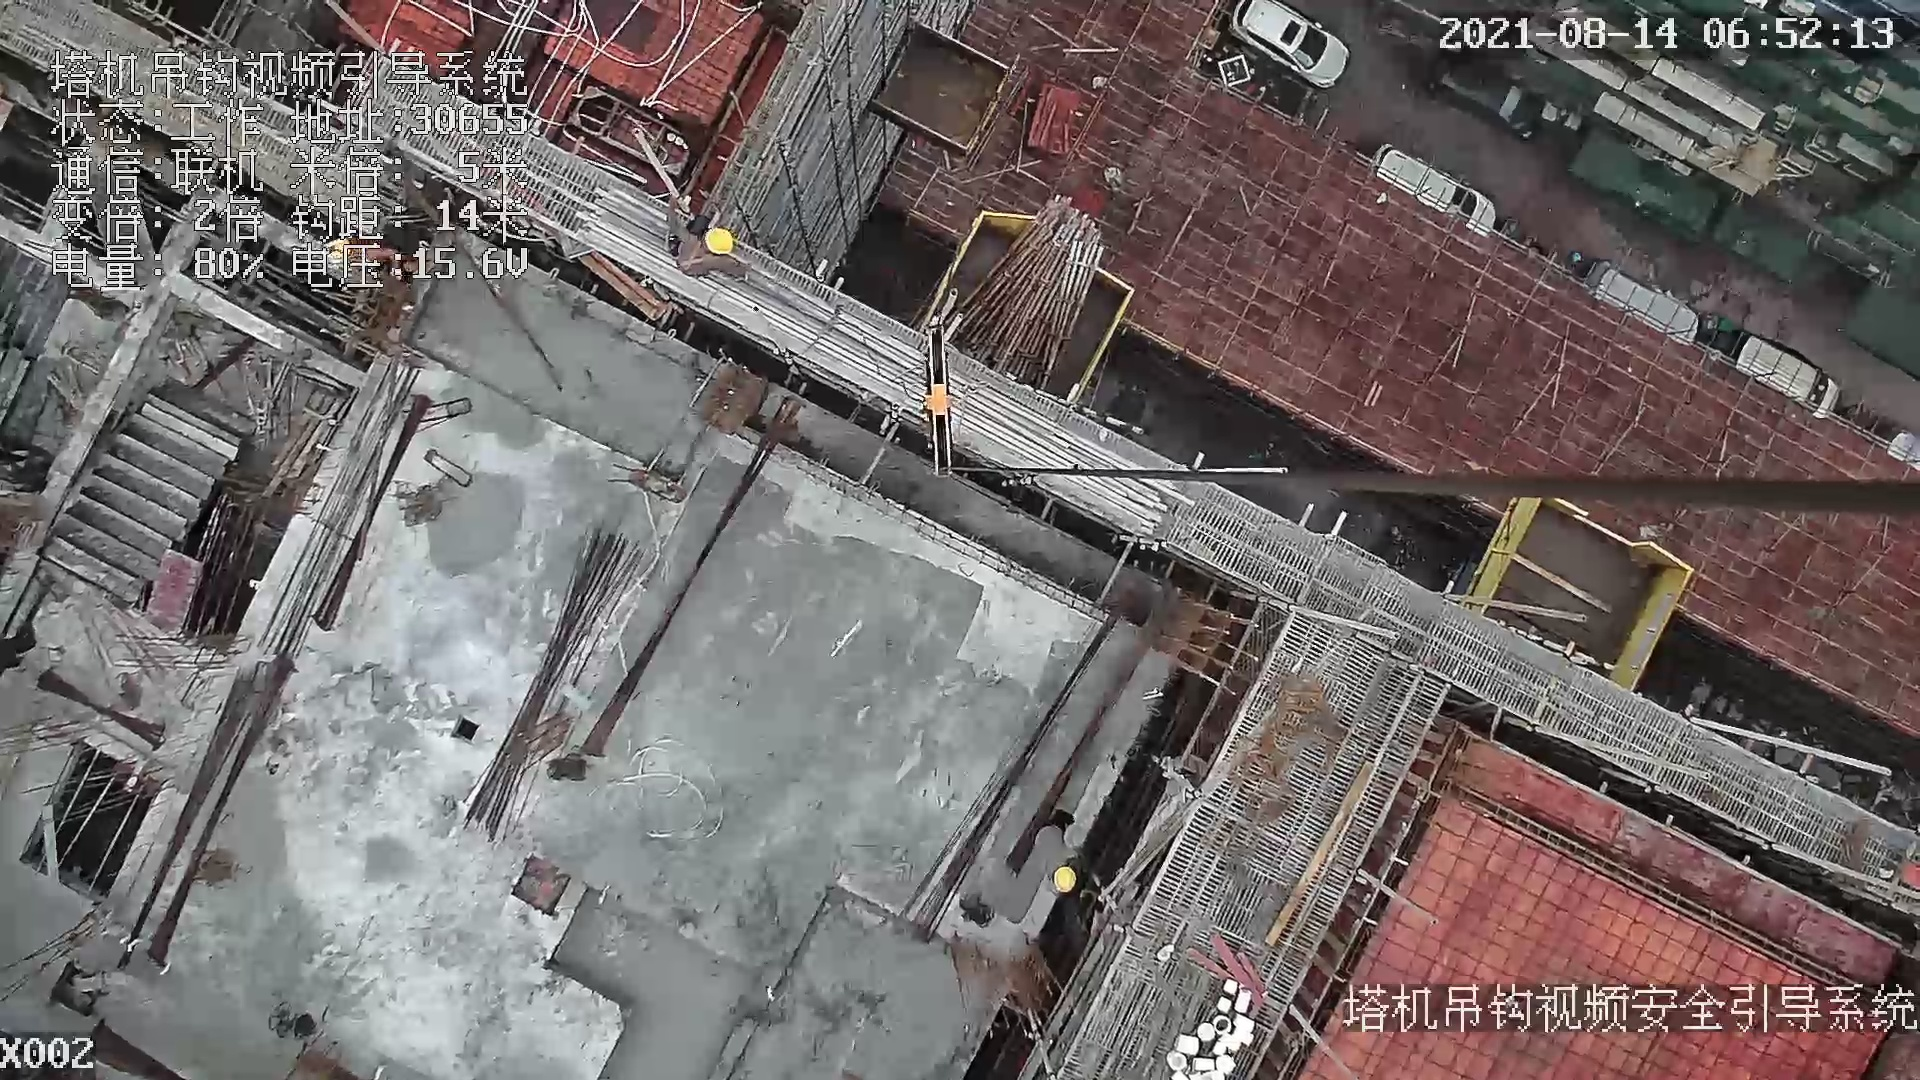helmet: (704, 228, 735, 255), (1054, 866, 1075, 892)
hook: (924, 321, 970, 489)
person: (659, 191, 753, 286), (1033, 800, 1108, 908)
rebar: (572, 186, 1192, 535), (462, 532, 644, 845)
scaffold: (954, 196, 1104, 391)
